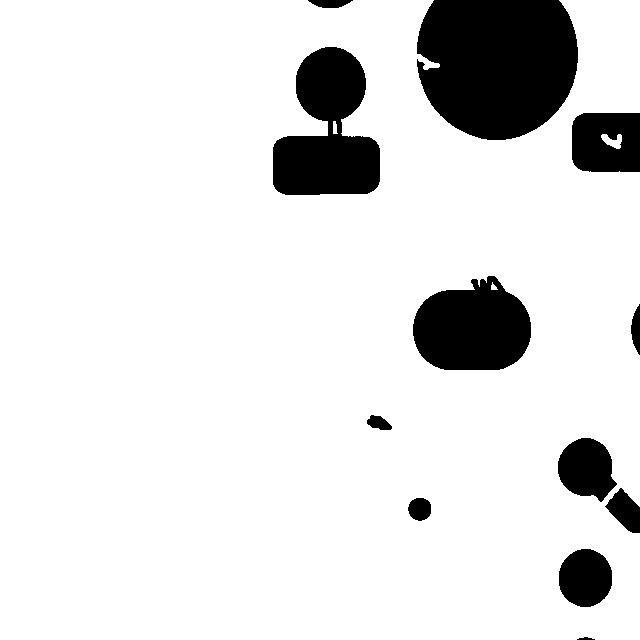copper: (357, 405, 401, 439)
mousebite: (406, 44, 449, 79)
open: (586, 468, 637, 518)
pin-hole: (591, 124, 631, 158)
short: (318, 100, 351, 148)
spur: (461, 266, 514, 308)
